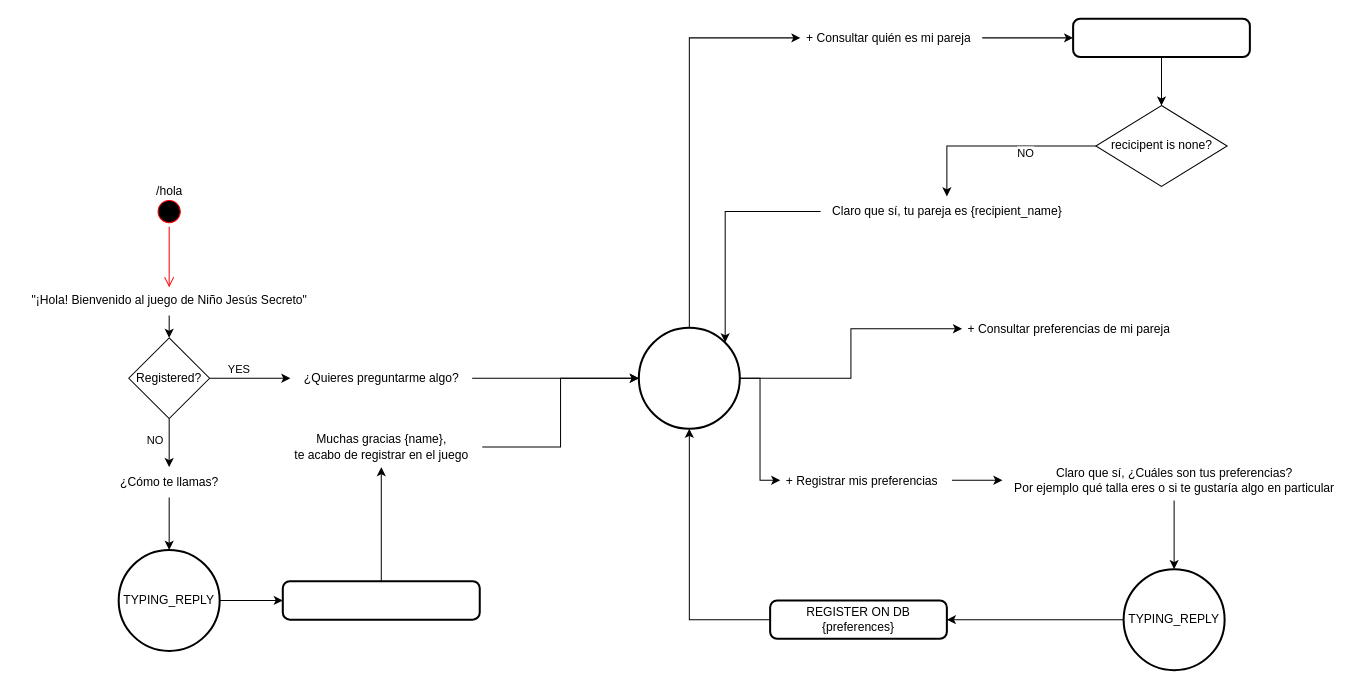
This 1362x688 diagram has some shape labels left out. The shapes that lost their labels are listed below. From the top down, each one's centre as x and y in pixels, then its label:
At (x=1161, y=37): "QUERY DB {recipient_name}".
At (x=688, y=377): "CHOOSING".
At (x=380, y=600): "REGISTER ON DB {name} {chat_id}".
